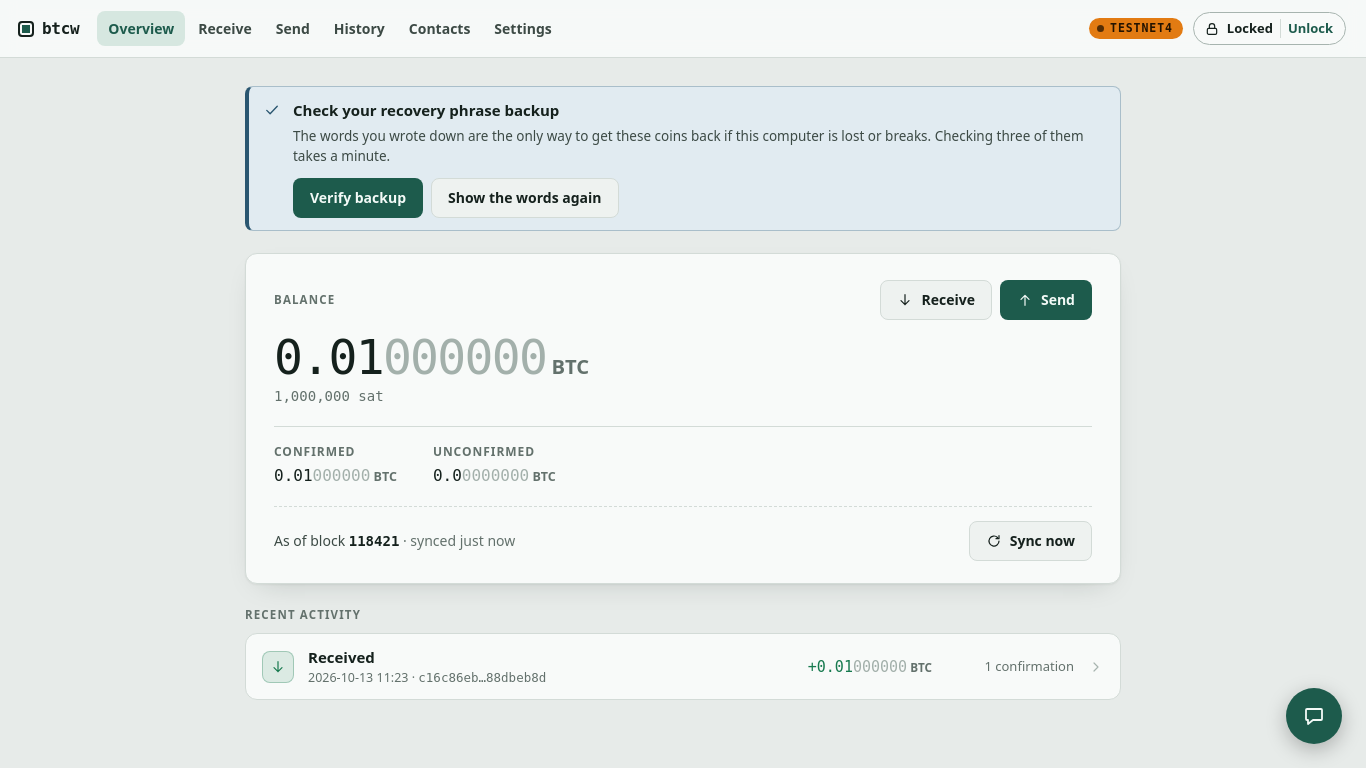
Test: unlock › shows a friendly error for a wrong password, then unlocks
Expected: the heading "Balance" is shown, [274,291,335,309]
Expected: the text "As of block 118421 · synced just now" is shown, [274,530,515,552]
Click the button "Locked Unlock" at (1269, 29), box [1193,12,1346,45]
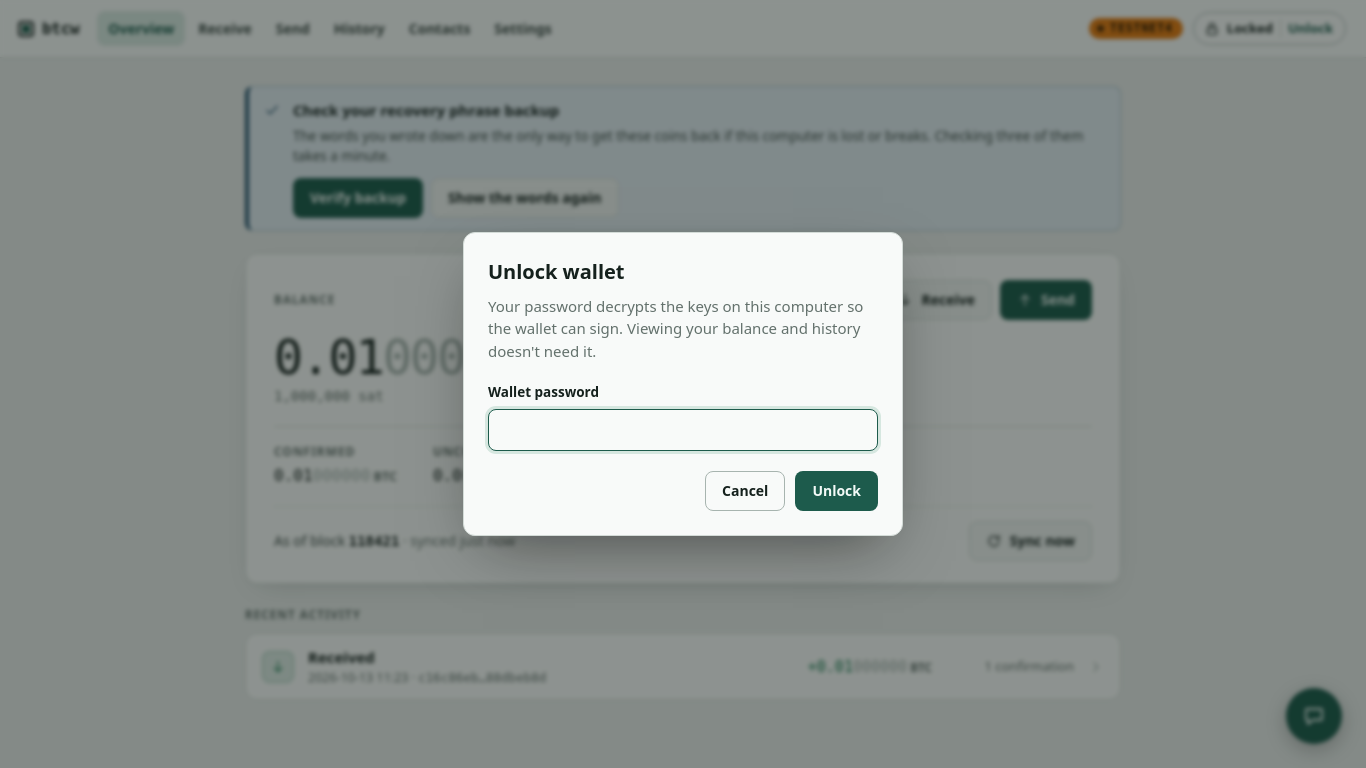
Type "not my password" into the password field labelled "Wallet password" at (683, 430), box [488,409,878,451]
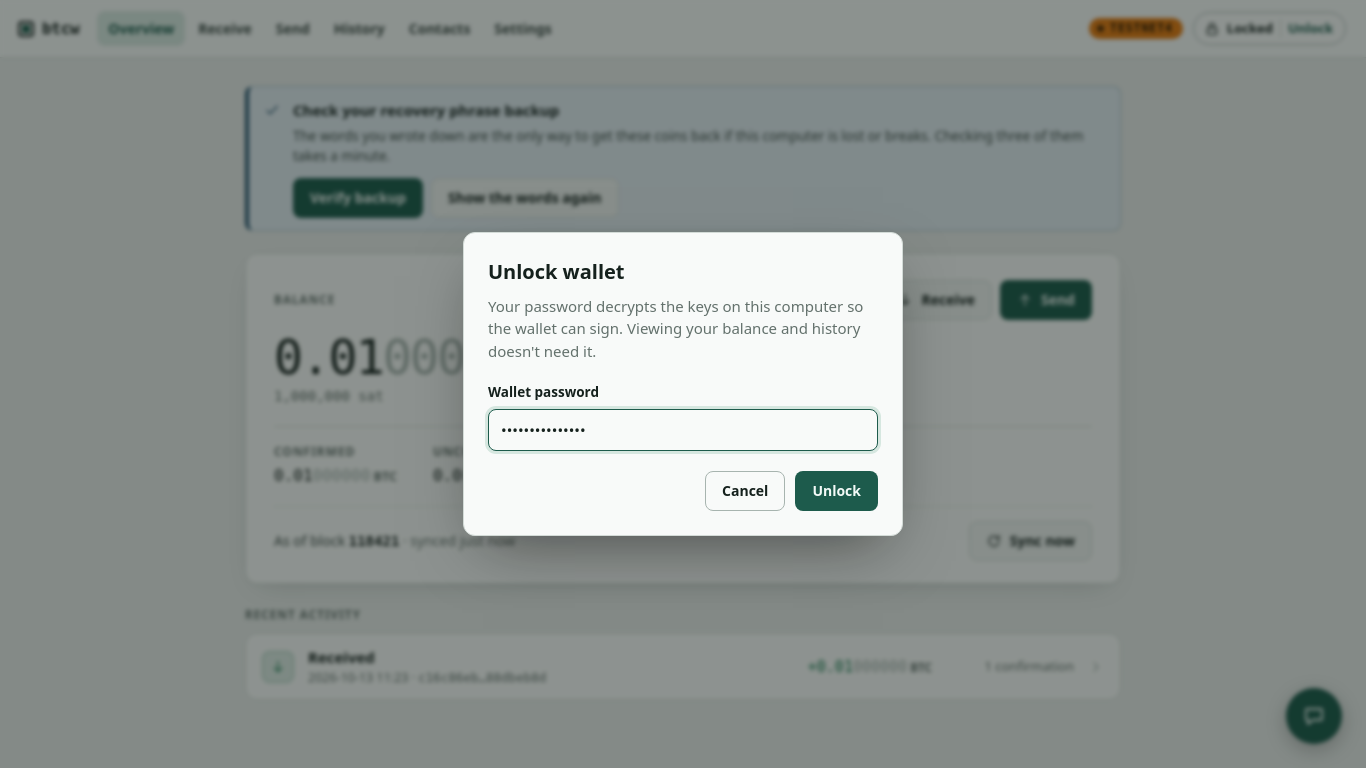
Click the button "Unlock" at (837, 491), box [795,471,878,511]
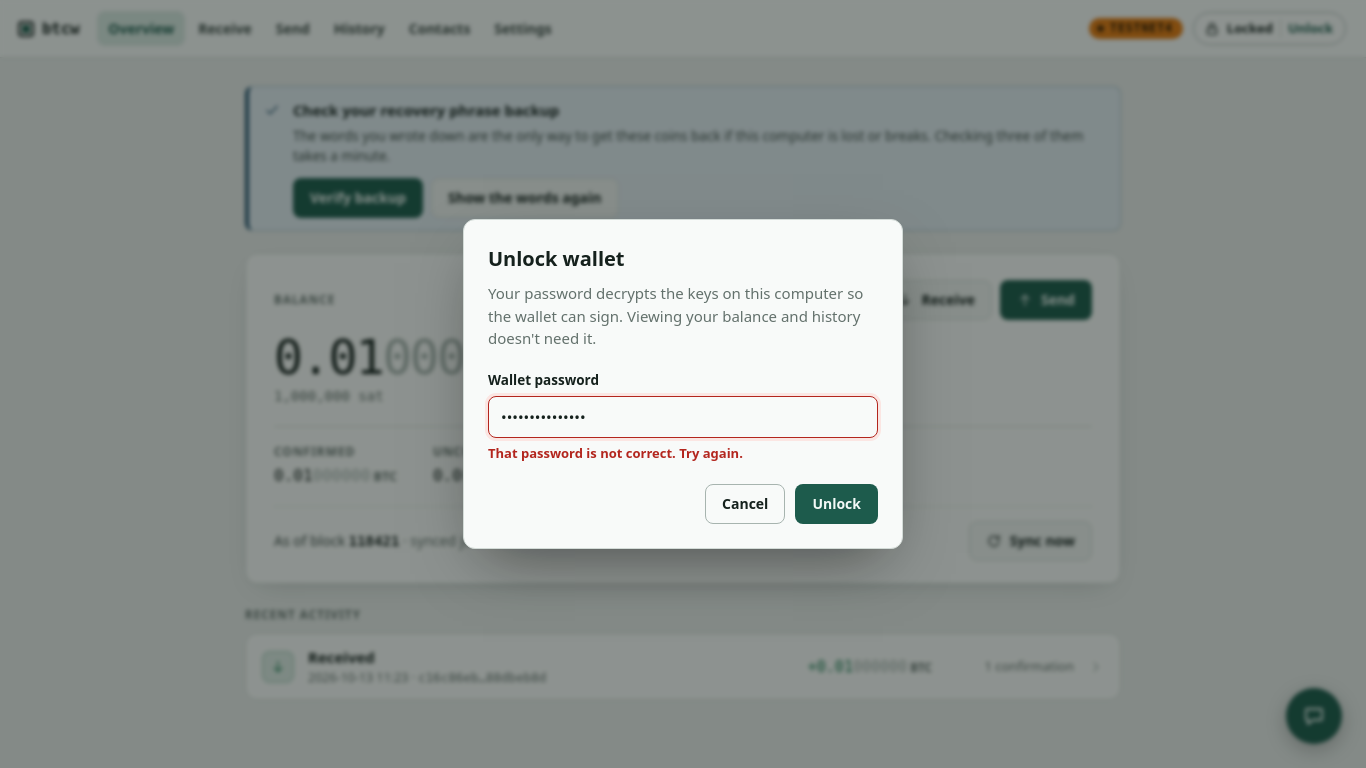
Expected: the dialog "Unlock wallet" does not show "wrong_password", [463,219,903,549]
Result: the text "That password is not correct. Try again." is shown at [488,444,743,462]
Type "correct horse battery" into the password field labelled "Wallet password" at (683, 417), box [488,396,878,438]
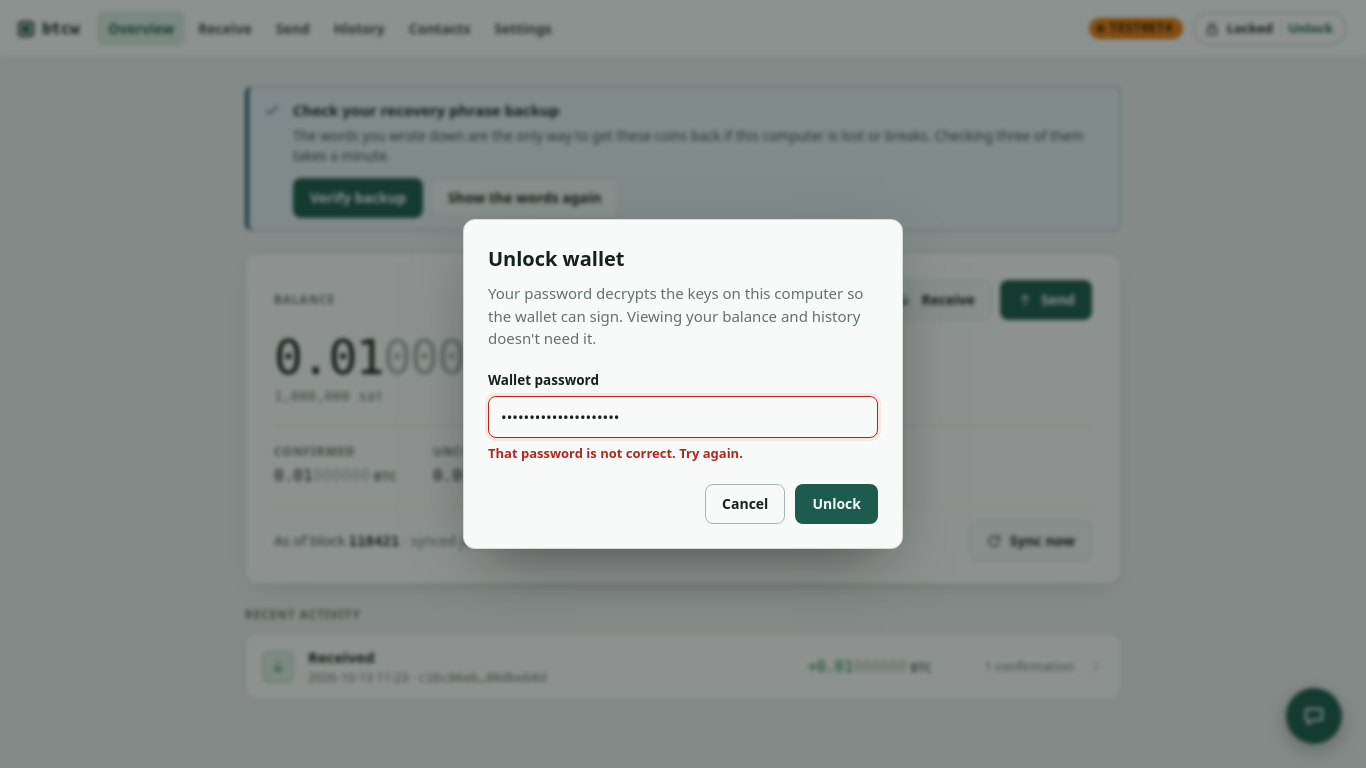
Click the button "Unlock" at (837, 504), box [795,484,878,524]
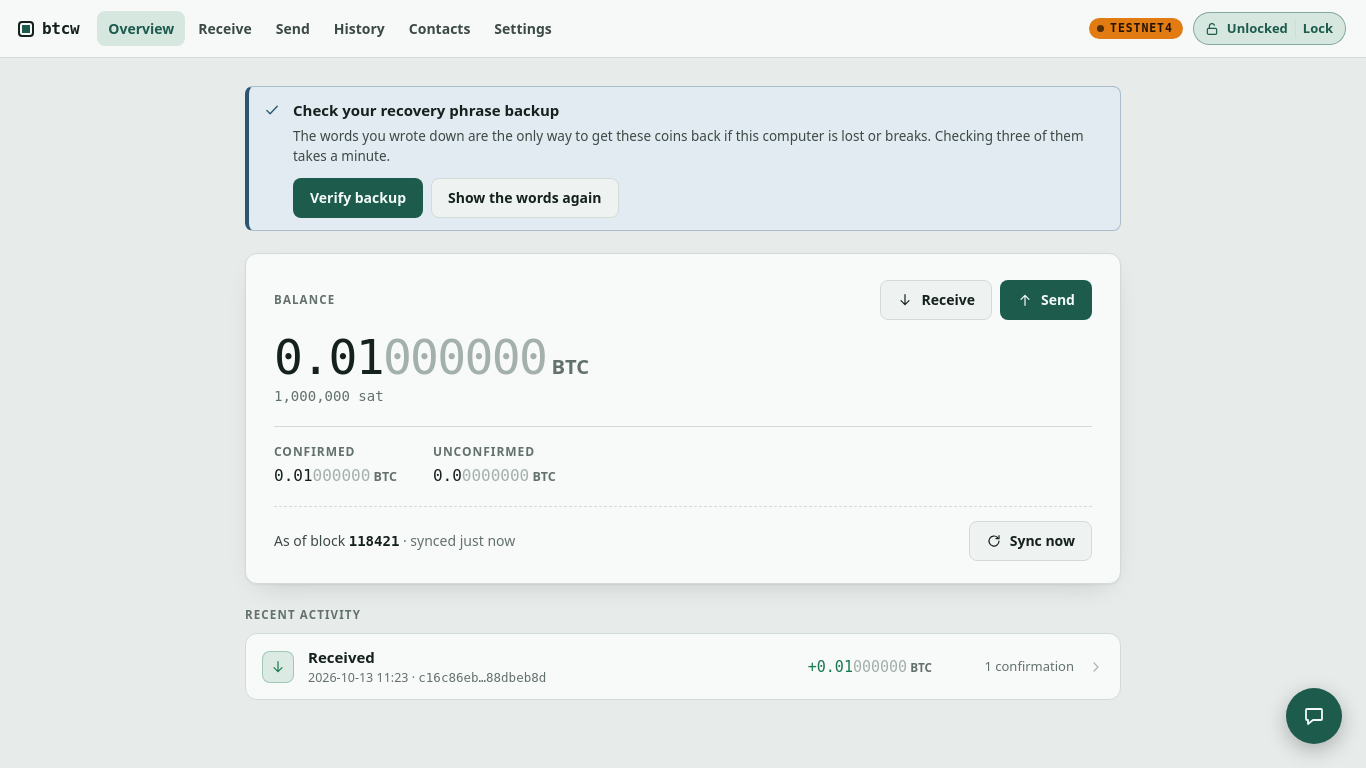
Result: the button "Unlocked Lock" is shown at [1193,12,1346,45]
Result: the dialog is gone
